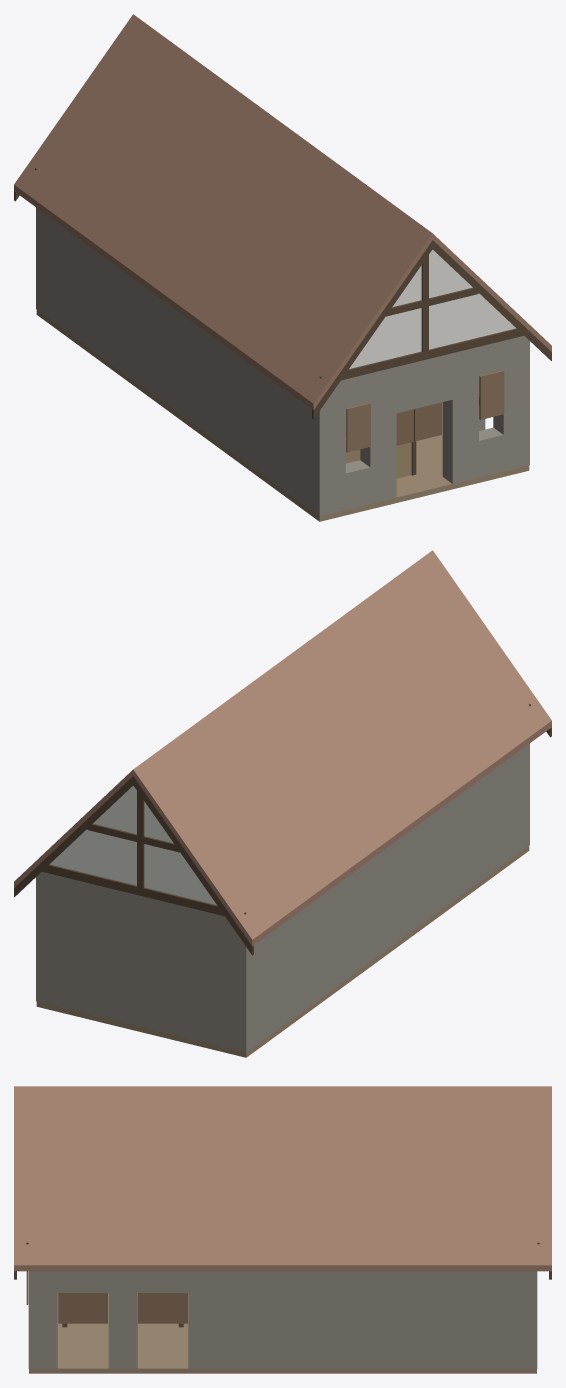
Rendered from stable-a.glb.
3 views of the same model, one above another, from view 1: azimuth 30°, elevation 25°; view 2: azimuth 150°, elevation 25°; view 3: azimuth 270°, elevation 25° (orthographic). The views are drawn at different scales.
Parts seen in each view (by area): view 1: roof, stone, render, timber, floor, stable-a-shutter-02 leaf, stable-a-shutter-01 leaf, stable-a-door-02 leaf, plank; view 2: roof, stone, render, timber, floor; view 3: roof, stone, floor, stable-a-door-03 leaf, stable-a-door-04 leaf.
Boxes of the visible parts, x1=… form: roof: x1=14, y1=14, x2=551, y2=410; stone: x1=36, y1=207, x2=529, y2=516; render: x1=349, y1=249, x2=515, y2=368; timber: x1=14, y1=168, x2=551, y2=475; floor: x1=36, y1=310, x2=529, y2=521; stable-a-shutter-02 leaf: x1=479, y1=370, x2=504, y2=419; stable-a-shutter-01 leaf: x1=346, y1=403, x2=370, y2=452; stable-a-door-02 leaf: x1=414, y1=402, x2=441, y2=441; plank: x1=345, y1=429, x2=411, y2=478; roof: x1=14, y1=550, x2=551, y2=946; stone: x1=36, y1=743, x2=529, y2=1052; render: x1=50, y1=785, x2=216, y2=904; timber: x1=14, y1=704, x2=551, y2=955; floor: x1=36, y1=846, x2=529, y2=1057; roof: x1=14, y1=1086, x2=551, y2=1271; stone: x1=28, y1=1271, x2=537, y2=1368; floor: x1=29, y1=1293, x2=536, y2=1373; stable-a-door-03 leaf: x1=58, y1=1293, x2=107, y2=1323; stable-a-door-04 leaf: x1=138, y1=1293, x2=187, y2=1323.
Bounding box in the file's own units: 6.8 × 7.33 × 14.8.
